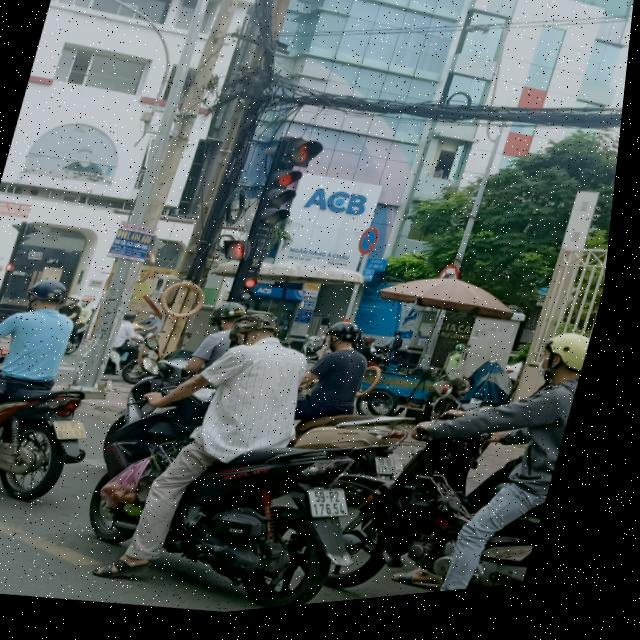Red: (258, 166, 307, 245), (240, 276, 269, 312)
